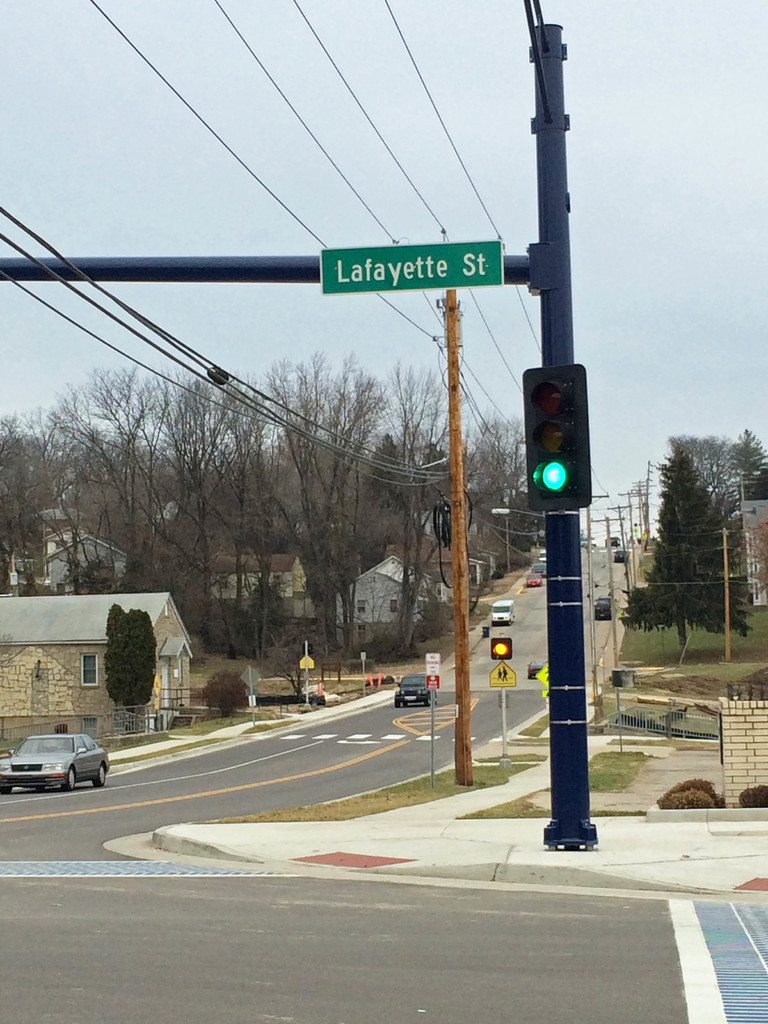green_light: (527, 373, 584, 505)
